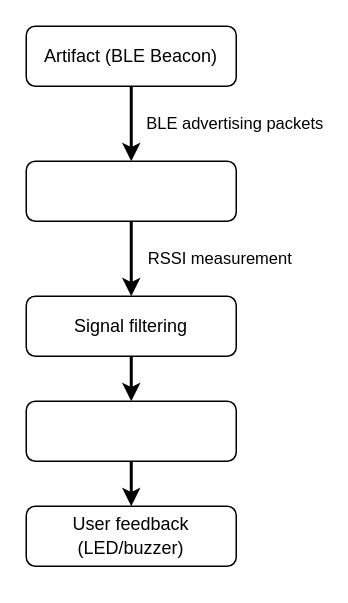
This 348x603 diagram has some shape labels left out. The centre of each missing label's shape, as x and y in pixels:
"Detector (BLE Scanner)" goes at (130,190).
"Distance estimation logic" goes at (130,430).
